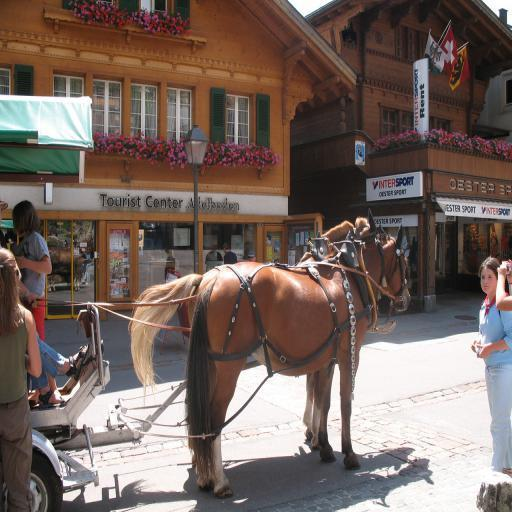horse: (126, 206, 380, 474), (182, 220, 412, 498)
